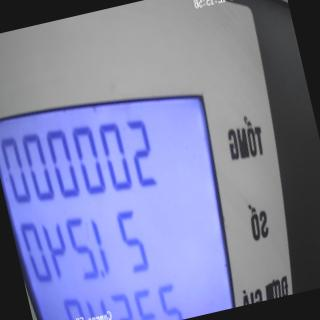screen: (0, 57, 257, 320)
